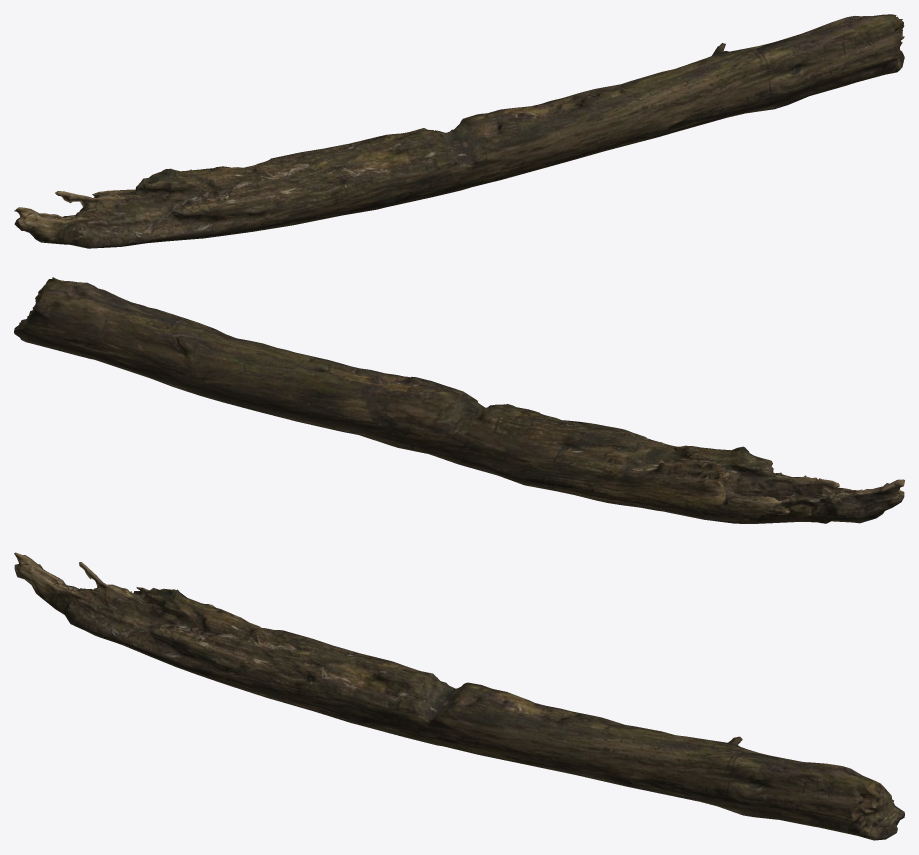
The model's file is dead_tree_trunk.glb.
3 renders of one model, top to bottom at view 1: azimuth 30°, elevation 25°; view 2: azimuth 150°, elevation 25°; view 3: azimuth 330°, elevation 25°, orthographic.
Parts seen in each view (by area): view 1: dead_tree_trunk; view 2: dead_tree_trunk; view 3: dead_tree_trunk.
Part boxes in pixels (x1=…): dead_tree_trunk: x1=14, y1=14, x2=904, y2=248; dead_tree_trunk: x1=14, y1=277, x2=904, y2=523; dead_tree_trunk: x1=14, y1=552, x2=904, y2=840.
Bounding box in the file's own units: 3.05 × 0.29 × 0.2775.
1 material, 1 textured.
